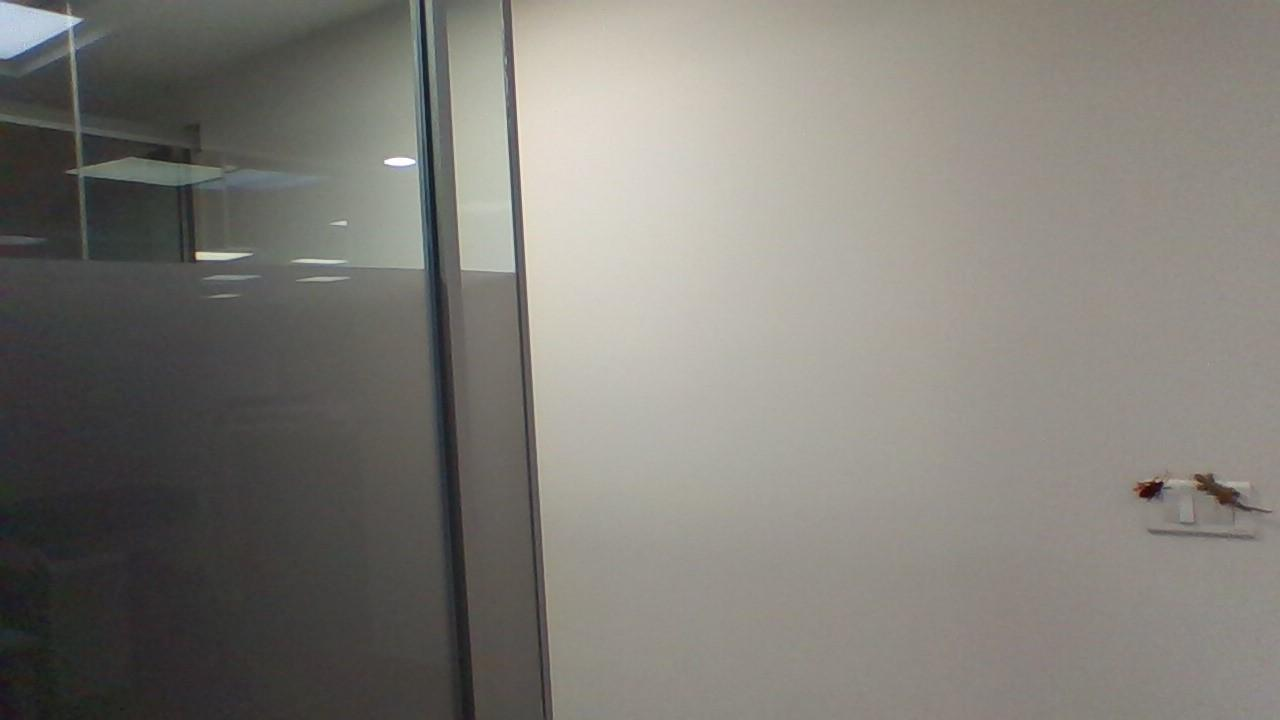cockroach: (1190, 466, 1271, 514), (1135, 469, 1171, 506)
